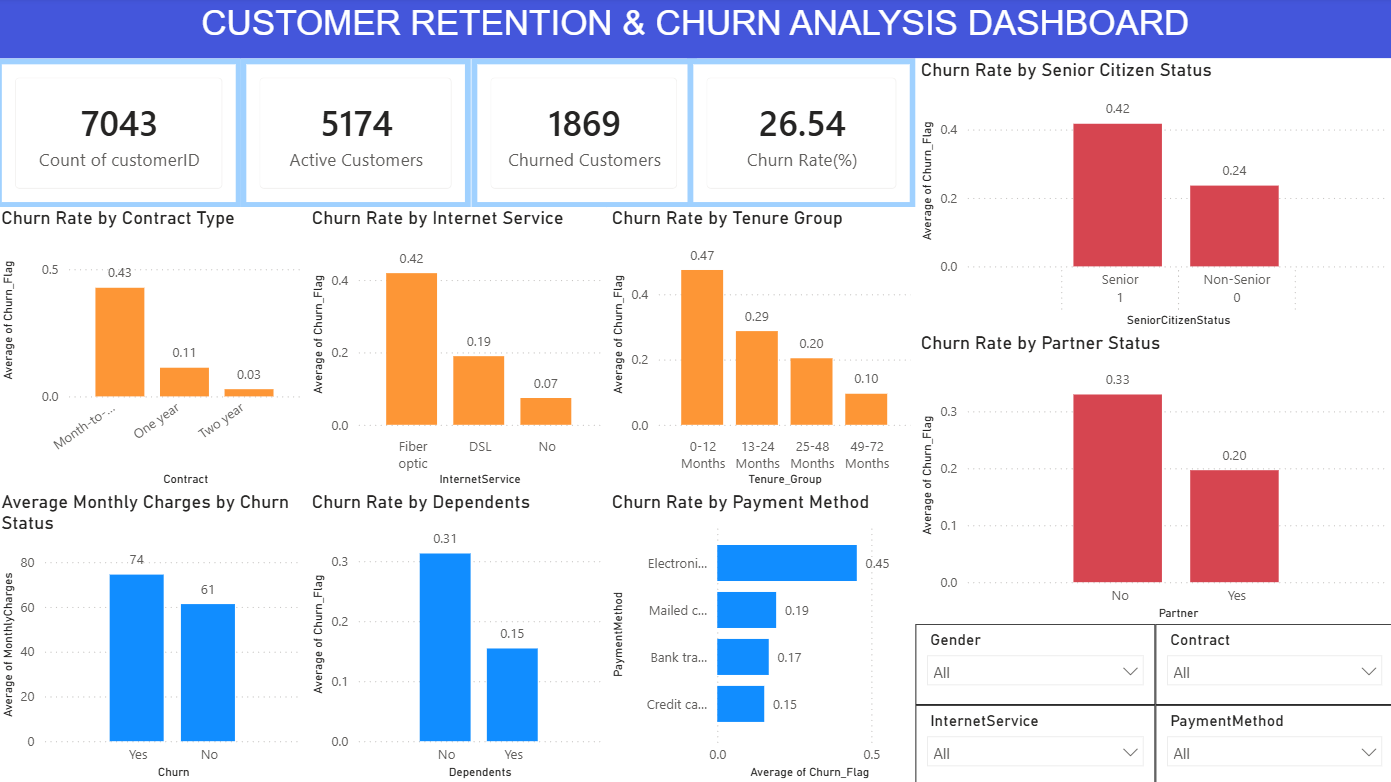

What the dashboard file says about the page in this screenshot:
{"tool":"powerbi","page":{"name":"Page 1","canvas":[1280,720],"ordinal":0},"visuals":[{"type":"cardVisual","title":"Total Customers","fields":{"Data":["Count(telco_churn_cleaned.customerID)"]},"box":[0,56,224.1,136.3],"z":0},{"type":"cardVisual","fields":{"Data":["telco_churn_cleaned.Churned Customers"]},"box":[434.6,56,205.9,136.3],"z":1000},{"type":"cardVisual","fields":{"Data":["telco_churn_cleaned.Active Customers"]},"box":[224.1,56,210.5,136.3],"z":2000},{"type":"cardVisual","fields":{"Data":["telco_churn_cleaned.Churn Rate %"]},"box":[632.9,56,209,136.3],"z":3000},{"type":"clusteredColumnChart","title":"Churn Rate by Contract Type","fields":{"Category":["telco_churn_cleaned.Contract"],"Y":["Avg(telco_churn_cleaned.Churn_Flag)"]},"box":[0,192.3,284.7,258.9],"z":4000},{"type":"clusteredColumnChart","title":"Churn Rate by Internet Service","fields":{"Category":["telco_churn_cleaned.InternetService"],"Y":["Avg(telco_churn_cleaned.Churn_Flag)"]},"box":[284.7,192.3,274.1,258.9],"z":5000},{"type":"clusteredBarChart","title":"Churn Rate by Payment Method","fields":{"Category":["telco_churn_cleaned.PaymentMethod"],"Y":["Avg(telco_churn_cleaned.Churn_Flag)"]},"box":[558.7,451.2,283.2,268],"z":6000},{"type":"clusteredColumnChart","title":"Churn Rate by Tenure Group","fields":{"Category":["telco_churn_cleaned.Tenure_Group"],"Y":["Avg(telco_churn_cleaned.Churn_Flag)"]},"box":[558.7,192.3,283.2,258.9],"z":7000},{"type":"textbox","box":[0,0,1279.5,56],"z":8000},{"type":"clusteredColumnChart","title":"Churn Rate by Senior Citizen Status","fields":{"Category":["telco_churn_cleaned.SeniorCitizen","telco_churn_cleaned.SeniorCitizenStatus"],"Y":["Avg(telco_churn_cleaned.Churn_Flag)"]},"box":[841.9,56,437.6,249.8],"z":9000},{"type":"clusteredColumnChart","title":"Churn Rate by Partner Status","fields":{"Category":["telco_churn_cleaned.Partner"],"Y":["Avg(telco_churn_cleaned.Churn_Flag)"]},"box":[841.9,305.9,437.6,268],"z":10000},{"type":"clusteredColumnChart","title":"Churn Rate by Dependents","fields":{"Category":["telco_churn_cleaned.Dependents"],"Y":["Avg(telco_churn_cleaned.Churn_Flag)"]},"box":[284.7,451.2,274.1,268],"z":11000},{"type":"clusteredColumnChart","title":"Average Monthly Charges by Churn Status","fields":{"Category":["telco_churn_cleaned.Churn"],"Y":["Avg(telco_churn_cleaned.MonthlyCharges)"]},"box":[0,451.2,284.7,268],"z":12000},{"type":"slicer","fields":{"Values":["telco_churn_cleaned.gender"]},"box":[841.9,573.9,219.6,74.2],"z":13000},{"type":"slicer","fields":{"Values":["telco_churn_cleaned.InternetService"]},"box":[841.9,648.1,219.6,71.2],"z":14000},{"type":"slicer","fields":{"Values":["telco_churn_cleaned.Contract"]},"box":[1061.5,573.9,218,74.2],"z":15000},{"type":"slicer","fields":{"Values":["telco_churn_cleaned.PaymentMethod"]},"box":[1061.5,648.1,218,71.2],"z":16000}]}

Visuals, with their boxes in screenshot pixels (x1, y1, x2, y2), scaled from the page's 1280x720 canvas onto the 1391x782 screenshot:
"Total Customers" cardVisual: BBox(0, 61, 244, 209)
cardVisual - telco_churn_cleaned.Churned Customers: BBox(472, 61, 696, 209)
cardVisual - telco_churn_cleaned.Active Customers: BBox(244, 61, 472, 209)
cardVisual - telco_churn_cleaned.Churn Rate %: BBox(688, 61, 915, 209)
"Churn Rate by Contract Type" clusteredColumnChart: BBox(0, 209, 309, 490)
"Churn Rate by Internet Service" clusteredColumnChart: BBox(309, 209, 607, 490)
"Churn Rate by Payment Method" clusteredBarChart: BBox(607, 490, 915, 781)
"Churn Rate by Tenure Group" clusteredColumnChart: BBox(607, 209, 915, 490)
textbox: BBox(0, 0, 1390, 61)
"Churn Rate by Senior Citizen Status" clusteredColumnChart: BBox(915, 61, 1390, 332)
"Churn Rate by Partner Status" clusteredColumnChart: BBox(915, 332, 1390, 623)
"Churn Rate by Dependents" clusteredColumnChart: BBox(309, 490, 607, 781)
"Average Monthly Charges by Churn Status" clusteredColumnChart: BBox(0, 490, 309, 781)
slicer - telco_churn_cleaned.gender: BBox(915, 623, 1154, 704)
slicer - telco_churn_cleaned.InternetService: BBox(915, 704, 1154, 781)
slicer - telco_churn_cleaned.Contract: BBox(1154, 623, 1390, 704)
slicer - telco_churn_cleaned.PaymentMethod: BBox(1154, 704, 1390, 781)
